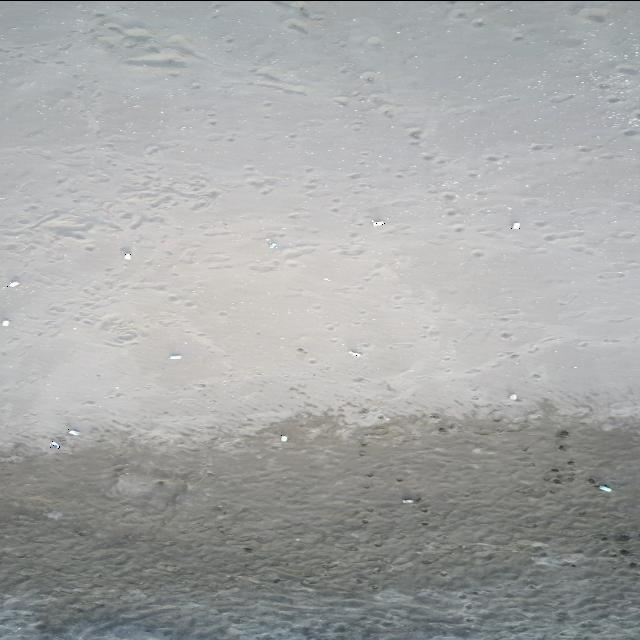Garbage: (403, 493, 420, 503), (45, 511, 63, 519), (597, 484, 611, 491), (67, 427, 79, 435), (267, 239, 278, 247), (8, 280, 19, 287), (49, 440, 60, 447), (373, 219, 384, 226), (348, 350, 360, 356), (168, 353, 180, 359), (280, 433, 287, 442), (512, 221, 520, 228), (123, 252, 131, 259), (509, 392, 516, 400), (403, 497, 412, 503), (2, 320, 8, 326)
